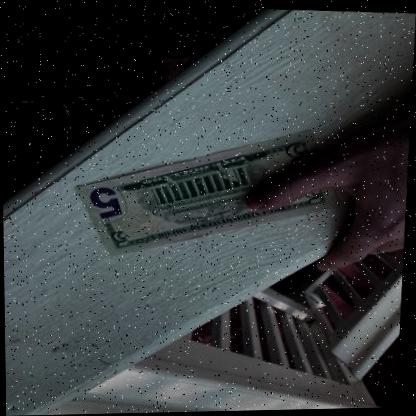five-back: (74, 125, 342, 255)
